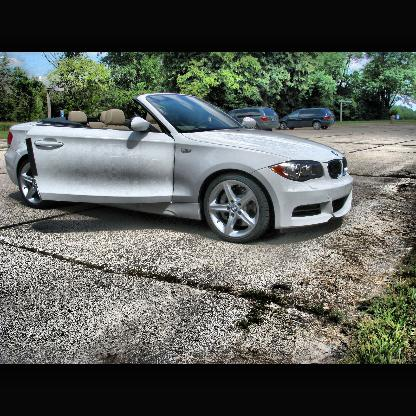BMW 1 Series Convertible 2012: (7, 94, 354, 244)
